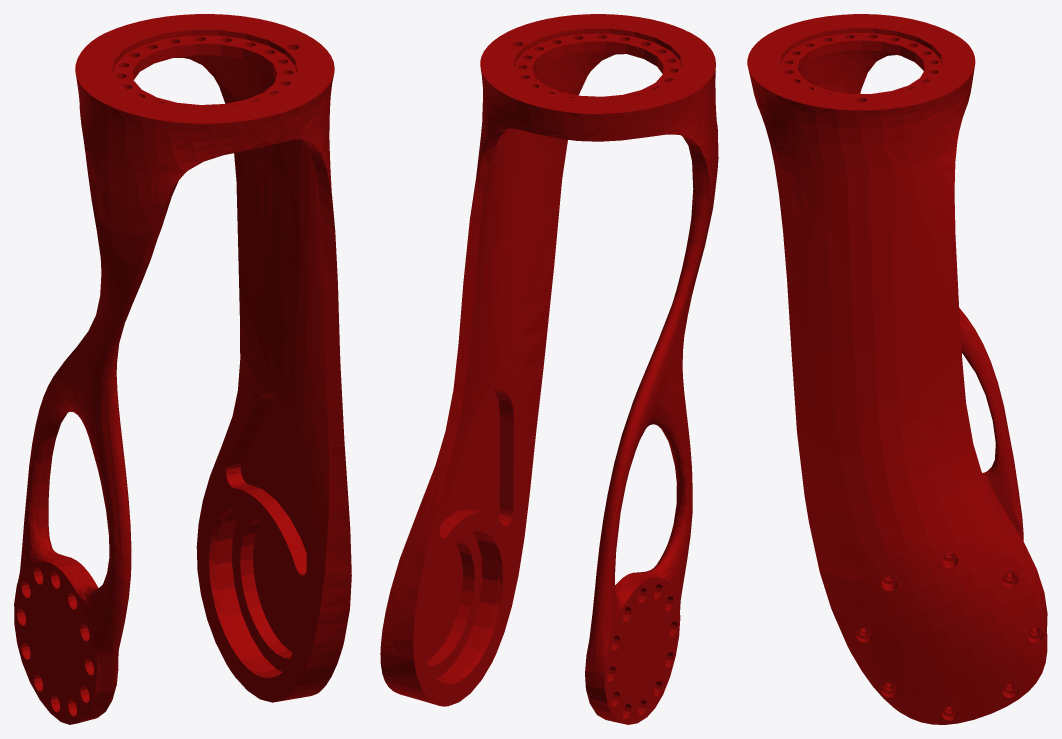
The model's file is R_arm.obj.
3 renders of one model, left to right at view 1: azimuth 30°, elevation 25°; view 2: azimuth 150°, elevation 25°; view 3: azimuth 270°, elevation 25°, orthographic. The views are drawn at different scales.
Parts seen in each view (by area): view 1: R_arm; view 2: R_arm; view 3: R_arm.
Boxes of the visible parts, x1,y1,x2,y2 form: R_arm: (14, 14, 351, 724); R_arm: (380, 14, 718, 724); R_arm: (747, 14, 1047, 724).
Bounding box in the file's own units: 0.0991 × 0.2453 × 0.1104.
